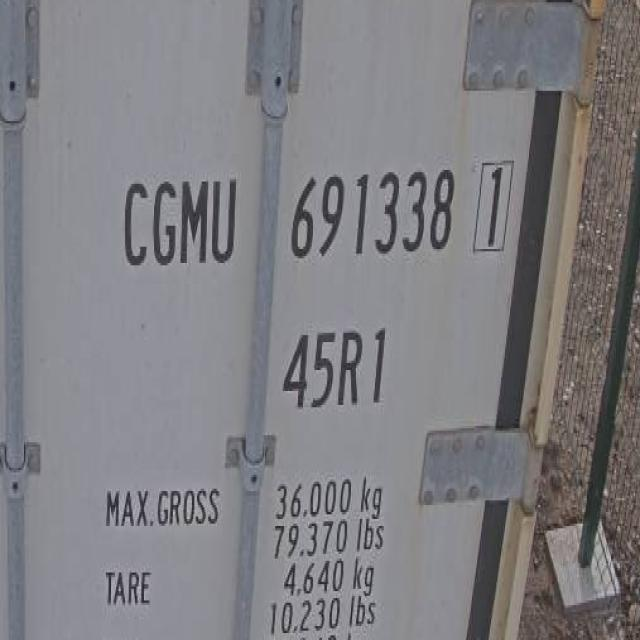dv: (474, 153, 514, 271)
owner: (120, 168, 240, 278)
serial: (288, 157, 456, 276)
size: (282, 314, 389, 421)
